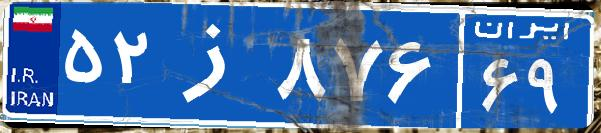2: (110, 28, 158, 105)
5: (57, 26, 110, 107)
6: (385, 28, 445, 110), (475, 38, 525, 113)
7: (330, 28, 385, 110)
8: (273, 28, 330, 110)
9: (525, 38, 570, 115)
ز: (158, 15, 273, 115)
